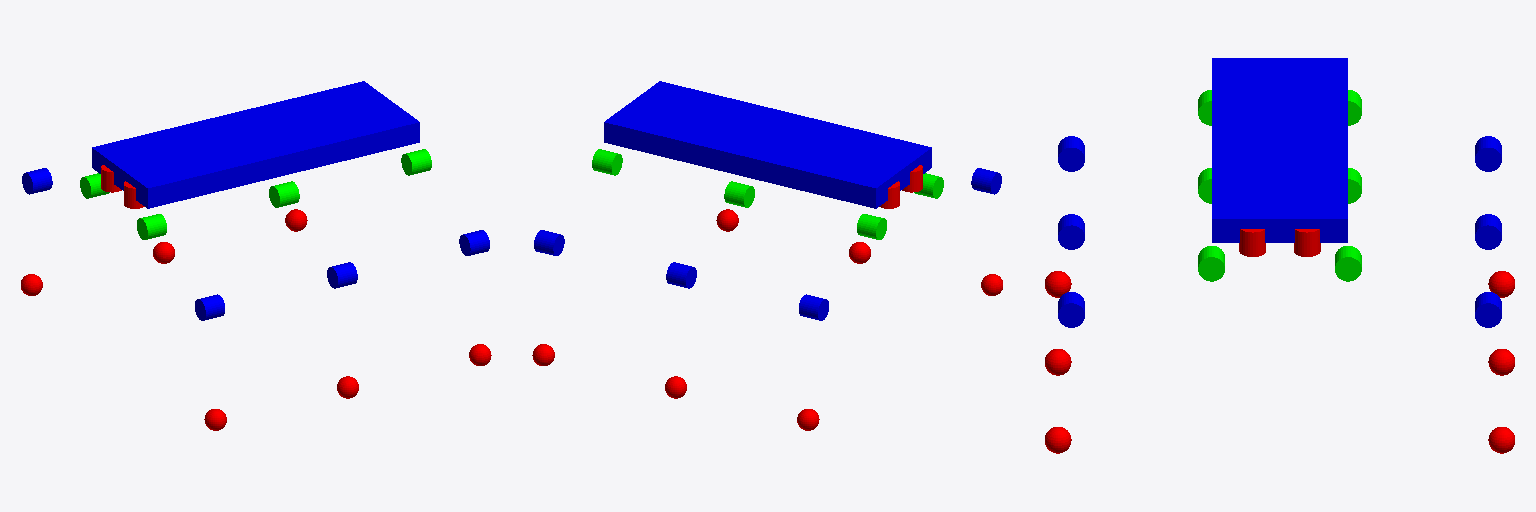
robot.urdf — robot_liuzu:
<?xml version="1.0" encoding="utf-8"?>
<!-- This URDF was automatically created by SolidWorks to URDF Exporter! Originally created by [author] ([email redacted]) 
     Commit Version: 1.6.0-4-g7f85cfe  Build Version: 1.6.7995.38578
     For more information, please see http://wiki.ros.org/sw_urdf_exporter -->
<robot name="robot_liuzu">
  <link name="base_link">
    <inertial>
      <origin xyz="0 0 0" rpy="0 0 0" />
      <mass value="17.206" />
      <inertia ixx="1.1941" ixy="0.003952" ixz="9.5899E-05" iyy="1.1576" iyz="0.078153" izz="0.21746" />
    </inertial>
    <visual>
      <origin xyz="0 0 0" rpy="0 0 0" />
      <geometry>
        <box size="0.7 0.25 0.05"/>
      </geometry>
      <material name="blue">
        <color rgba="0 0 1 1" />
      </material>
    </visual>
    <collision>
      <origin xyz="0 0 0" rpy="0 0 0" />
      <geometry>
        <box size="0.7 0.25 0.05"/>
      </geometry>
    </collision>
  </link>

  <joint name="body_lb" type="revolute">
    <origin xyz="-0.34 0.05 -0.021" rpy="0 0 0" />
    <parent link="base_link" />
    <child link="lb_link1" />
    <axis xyz="0 0 -1" />
    <limit lower="-0.471" upper="0.471"/>
  </joint>

  <link name="lb_link1">
    <inertial>
      <origin xyz="-0.038541 0.022331 -0.054879" rpy="0 0 0" />
      <mass value="2.478" />
      <inertia ixx="0.017127" ixy="-0.004201" ixz="0.009585" iyy="0.021963" iyz="-0.0056509" izz="0.011444" />
    </inertial>
    <visual>
      <origin xyz="0 0 0" rpy="0 0 0" />
      <geometry>
        <cylinder radius="0.025" length="0.05"/>
      </geometry>
      <material name="red">
        <color rgba="1 0 0 1" />
      </material>
    </visual>
    <collision>
      <origin xyz="0 0 0" rpy="0 0 0" />
      <geometry>
        <cylinder radius="0.025" length="0.05"/>
      </geometry>
    </collision>
  </link>

  <joint name="thigh_lb" type="revolute">
    <origin xyz="0 0.076 -0.05" rpy="0 0 0" />
    <parent link="lb_link1" />
    <child link="lb_link2" />
    <axis xyz="1 0 0" />
    <limit lower="-0.471" upper="0.471"/>
  </joint>

  <link name="lb_link2">
    <inertial>
      <origin xyz="0.033669 -0.033086 -0.002815" rpy="0 0 0" />
      <mass value="1.658" />
      <inertia ixx="0.0034925" ixy="-1.7485E-05" ixz="-0.000732" iyy="0.013323" iyz="2.067E-06" izz="0.015288" />
    </inertial>
    <visual>
      <origin xyz="0 0 0" rpy="0 1.570796 0" />
      <geometry>
        <cylinder radius="0.025" length="0.05"/>
      </geometry>
      <material name="green">
        <color rgba="0 1 0 1" />
      </material>
    </visual>
    <collision>
      <origin xyz="0 0 0" rpy="0 1.570796 0" />
      <geometry>
        <cylinder radius="0.025" length="0.05"/>
      </geometry>
    </collision>
  </link>

  <joint name="shank_lb" type="revolute">
    <origin xyz="0 0.25842 -0.094056" rpy="0 0 0" />
    <parent link="lb_link2" />
    <child link="lb_link3" />
    <axis xyz="1 0 0" />
    <limit lower="-0.471" upper="0.471" />
  </joint>

  <link name="lb_link3">
    <inertial>
      <origin xyz="0.033669 -0.033086 -0.002815" rpy="0 0 0" />
      <mass value="0.331" />
      <inertia ixx="0.00011902" ixy="5E-09" ixz="0.00064146" iyy="0.011147" iyz="1E-09" izz="0.011069" />
    </inertial>
    <visual>
      <origin xyz="0 0 0" rpy="0 1.570796 0" />
      <geometry>
        <cylinder radius="0.025" length="0.05"/>
      </geometry>
      <material name="blue">
        <color rgba="0 0 1 1" />
      </material>
    </visual>
    <collision>
      <origin xyz="0 0 0" rpy="0 1.570796 0" />
      <geometry>
        <cylinder radius="0.025" length="0.05"/>
      </geometry>
    </collision>
  </link>

  <joint name="lb_tip_joint" type="fixed">
    <origin xyz="0 0.025 -0.265" rpy="0 0 0" />
    <parent link="lb_link3" />
    <child link="lb_foot_tip" />
    <axis xyz="1 0 0" />
    <limit lower="-0.471" upper="0.471" />
  </joint>

  <link name="lb_foot_tip">
    <inertial>
      <origin xyz="0 0 0" rpy="0 0 0" />
      <mass value="1E-09" />
      <inertia ixx="1E-09" ixy="1E-09" ixz="1E-09" iyy="1E-09" iyz="1E-09" izz="1E-09" />
    </inertial>
    <visual>
      <origin xyz="0 0 0" rpy="0 0 0" />
      <geometry>
        <sphere radius="0.025"/>
      </geometry>
      <material name="red">
        <color rgba="1 0 0 1" />
      </material>
    </visual>
    <collision>
      <origin xyz="0 0 0" rpy="0 0 0" />
      <geometry>
        <sphere radius="0.025"/>
      </geometry>
    </collision>
  </link>


  <joint name="body_lm" type="revolute">
    <origin xyz="0 0.05 -0.021" rpy="0 0 0" />
    <parent link="base_link" />
    <child link="lm_link1" />
    <axis xyz="0 0 -1" />
    <limit lower="-0.471" upper="0.471" />
  </joint>

  <link name="lm_link1">
    <inertial>
      <origin xyz="-0.038541 0.022331 -0.054879" rpy="0 0 0" />
      <mass value="2.478" />
      <inertia ixx="0.017127" ixy="-0.004201" ixz="0.009585" iyy="0.021963" iyz="-0.0056509" izz="0.011444" />
    </inertial>
    <visual>
      <origin xyz="0 0 0" rpy="0 0 0" />
      <geometry>
        <cylinder radius="0.025" length="0.05"/>
      </geometry>
      <material name="red">
        <color rgba="1 0 0 1" />
      </material>
    </visual>
    <collision>
      <origin xyz="0 0 0" rpy="0 0 0" />
      <geometry>
        <cylinder radius="0.025" length="0.05"/>
      </geometry>
    </collision>
  </link>

  <joint name="thigh_lm" type="revolute">
    <origin xyz="0 0.076 -0.05" rpy="0 0 0" />
    <parent link="lm_link1" />
    <child link="lm_link2" />
    <axis xyz="1 0 0" />
    <limit lower="-0.471" upper="0.471" />
  </joint>

  <link name="lm_link2">
    <inertial>
      <origin xyz="0.033669 -0.033086 -0.002815" rpy="0 0 0" />
      <mass value="1.658" />
      <inertia ixx="0.0034925" ixy="-1.7485E-05" ixz="-0.000732" iyy="0.013323" iyz="2.067E-06" izz="0.015288" />
    </inertial>
    <visual>
      <origin xyz="0 0 0" rpy="0 1.570796 0" />
      <geometry>
        <cylinder radius="0.025" length="0.05"/>
      </geometry>
      <material name="green">
        <color rgba="0 1 0 1" />
      </material>
    </visual>
    <collision>
      <origin xyz="0 0 0" rpy="0 1.570796 0" />
      <geometry>
        <cylinder radius="0.025" length="0.05"/>
      </geometry>
    </collision>
  </link>

  <joint name="shank_lm" type="revolute">
    <origin xyz="0 0.25842 -0.094056" rpy="0 0 0" />
    <parent link="lm_link2" />
    <child link="lm_link3" />
    <axis xyz="1 0 0" />
    <limit lower="-0.471" upper="0.471" />
  </joint>

  <link name="lm_link3">
    <inertial>
      <origin xyz="0.033669 -0.033086 -0.002815" rpy="0 0 0" />
      <mass value="0.331" />
      <inertia ixx="0.00011902" ixy="5E-09" ixz="0.00064146" iyy="0.011147" iyz="1E-09" izz="0.011069" />
    </inertial>
    <visual>
      <origin xyz="0 0 0" rpy="0 1.570796 0" />
      <geometry>
        <cylinder radius="0.025" length="0.05"/>
      </geometry>
      <material name="blue">
        <color rgba="0 0 1 1" />
      </material>
    </visual>
    <collision>
      <origin xyz="0 0 0" rpy="0 1.570796 0" />
      <geometry>
        <cylinder radius="0.025" length="0.05"/>
      </geometry>
    </collision>
  </link>

  <joint name="lm_tip_joint" type="fixed">
    <origin xyz="0 0.025 -0.265" rpy="0 0 0" />
    <parent link="lm_link3" />
    <child link="lm_foot_tip" />
    <axis xyz="1 0 0" />
    <limit lower="-0.471" upper="0.471" />
  </joint>

  <link name="lm_foot_tip">
    <inertial>
      <origin xyz="0 0 0" rpy="0 0 0" />
      <mass value="1E-09" />
      <inertia ixx="1E-09" ixy="1E-09" ixz="1E-09" iyy="1E-09" iyz="1E-09" izz="1E-09" />
    </inertial>
    <visual>
      <origin xyz="0 0 0" rpy="0 0 0" />
      <geometry>
        <sphere radius="0.025"/>
      </geometry>
      <material name="red">
        <color rgba="1 0 0 1" />
      </material>
    </visual>
    <collision>
      <origin xyz="0 0 0" rpy="0 0 0" />
      <geometry>
        <sphere radius="0.025"/>
      </geometry>
    </collision>
  </link>

  <joint name="body_lf" type="revolute">
    <origin xyz="0.34 0.05 -0.021" rpy="0 0 0" />
    <parent link="base_link" />
    <child link="lf_link1" />
    <axis xyz="0 0 -1" />
    <limit lower="-0.471" upper="0.471" />
  </joint>

  <link name="lf_link1">
    <inertial>
      <origin xyz="-0.038541 0.022331 -0.054879" rpy="0 0 0" />
      <mass value="2.478" />
      <inertia ixx="0.017127" ixy="-0.004201" ixz="0.009585" iyy="0.021963" iyz="-0.0056509" izz="0.011444" />
    </inertial>
    <visual>
      <origin xyz="0 0 0" rpy="0 0 0" />
      <geometry>
        <cylinder radius="0.025" length="0.05"/>
      </geometry>
      <material name="red">
        <color rgba="1 0 0 1" />
      </material>
    </visual>
    <collision>
      <origin xyz="0 0 0" rpy="0 0 0" />
      <geometry>
        <cylinder radius="0.025" length="0.05"/>
      </geometry>
    </collision>
  </link>

  <joint name="thigh_lf" type="revolute">
    <origin xyz="0 0.076 -0.05" rpy="0 0 0" />
    <parent link="lf_link1" />
    <child link="lf_link2" />
    <axis xyz="1 0 0" />
    <limit lower="-0.471" upper="0.471" />
  </joint>

  <link name="lf_link2">
    <inertial>
      <origin xyz="0.033669 -0.033086 -0.002815" rpy="0 0 0" />
      <mass value="1.658" />
      <inertia ixx="0.0034925" ixy="-1.7485E-05" ixz="-0.000732" iyy="0.013323" iyz="2.067E-06" izz="0.015288" />
    </inertial>
    <visual>
      <origin xyz="0 0 0" rpy="0 1.570796 0" />
      <geometry>
        <cylinder radius="0.025" length="0.05"/>
      </geometry>
      <material name="green">
        <color rgba="0 1 0 1" />
      </material>
    </visual>
    <collision>
      <origin xyz="0 0 0" rpy="0 1.570796 0" />
      <geometry>
        <cylinder radius="0.025" length="0.05"/>
      </geometry>
    </collision>
  </link>

  <joint name="shank_lf" type="revolute">
    <origin xyz="0 0.25842 -0.094056" rpy="0 0 0" />
    <parent link="lf_link2" />
    <child link="lf_link3" />
    <axis xyz="1 0 0" />
    <limit lower="-0.471" upper="0.471" />
  </joint>

  <link name="lf_link3">
    <inertial>
      <origin xyz="0.033669 -0.033086 -0.002815" rpy="0 0 0" />
      <mass value="0.331" />
      <inertia ixx="0.00011902" ixy="5E-09" ixz="0.00064146" iyy="0.011147" iyz="1E-09" izz="0.011069" />
    </inertial>
    <visual>
      <origin xyz="0 0 0" rpy="0 1.570796 0" />
      <geometry>
        <cylinder radius="0.025" length="0.05"/>
      </geometry>
      <material name="blue">
        <color rgba="0 0 1 1" />
      </material>
    </visual>
    <collision>
      <origin xyz="0 0 0" rpy="0 1.570796 0" />
      <geometry>
        <cylinder radius="0.025" length="0.05"/>
      </geometry>
    </collision>
  </link>

  <joint name="lf_tip_joint" type="fixed">
    <origin xyz="0 0.025 -0.265" rpy="0 0 0" />
    <parent link="lf_link3" />
    <child link="lf_foot_tip" />
    <axis xyz="1 0 0" />
    <limit lower="-0.471" upper="0.471" />
  </joint>

  <link name="lf_foot_tip">
    <inertial>
      <origin xyz="0 0 0" rpy="0 0 0" />
      <mass value="1E-09" />
      <inertia ixx="1E-09" ixy="1E-09" ixz="1E-09" iyy="1E-09" iyz="1E-09" izz="1E-09" />
    </inertial>
    <visual>
      <origin xyz="0 0 0" rpy="0 0 0" />
      <geometry>
        <sphere radius="0.025"/>
      </geometry>
      <material name="red">
        <color rgba="1 0 0 1" />
      </material>
    </visual>
    <collision>
      <origin xyz="0 0 0" rpy="0 0 0" />
      <geometry>
        <sphere radius="0.025"/>
      </geometry>
    </collision>
  </link>

  <joint name="body_rf" type="revolute">
    <origin xyz="0.34 -0.05 -0.021" rpy="0 0 0" />
    <parent link="base_link" />
    <child link="rf_link1" />
    <axis xyz="0 0 1" />
    <limit lower="-0.471" upper="0.471" />
  </joint>

  <link name="rf_link1">
    <inertial>
      <origin xyz="-0.038541 0.022331 -0.054879" rpy="0 0 0" />
      <mass value="2.478" />
      <inertia ixx="0.017127" ixy="-0.004201" ixz="0.009585" iyy="0.021963" iyz="-0.0056509" izz="0.011444" />
    </inertial>
    <visual>
      <origin xyz="0 0 0" rpy="0 0 0" />
      <geometry>
        <cylinder radius="0.025" length="0.05"/>
      </geometry>
      <material name="red">
        <color rgba="1 0 0 1" />
      </material>
    </visual>
    <collision>
      <origin xyz="0 0 0" rpy="0 0 0" />
      <geometry>
        <cylinder radius="0.025" length="0.05"/>
      </geometry>
    </collision>
  </link>

  <joint name="thigh_rf" type="revolute">
    <origin xyz="0 -0.076 -0.05" rpy="0 0 0" />
    <parent link="rf_link1" />
    <child link="rf_link2" />
    <axis xyz="-1 0 0" />
    <limit lower="-0.471" upper="0.471" />
  </joint>

  <link name="rf_link2">
    <inertial>
      <origin xyz="0.033669 -0.033086 -0.002815" rpy="0 0 0" />
      <mass value="1.658" />
      <inertia ixx="0.0034925" ixy="-1.7485E-05" ixz="-0.000732" iyy="0.013323" iyz="2.067E-06" izz="0.015288" />
    </inertial>
    <visual>
      <origin xyz="0 0 0" rpy="0 1.570796 0" />
      <geometry>
        <cylinder radius="0.025" length="0.05"/>
      </geometry>
      <material name="green">
        <color rgba="0 1 0 1" />
      </material>
    </visual>
    <collision>
      <origin xyz="0 0 0" rpy="0 1.570796 0" />
      <geometry>
        <cylinder radius="0.025" length="0.05"/>
      </geometry>
    </collision>
  </link>

  <joint name="shank_rf" type="revolute">
    <origin xyz="0 -0.25842 -0.094056" rpy="0 0 0" />
    <parent link="rf_link2" />
    <child link="rf_link3" />
    <axis xyz="-1 0 0" />
    <limit lower="-0.471" upper="0.471" />
  </joint>

  <link name="rf_link3">
    <inertial>
      <origin xyz="0.033669 -0.033086 -0.002815" rpy="0 0 0" />
      <mass value="0.331" />
      <inertia ixx="0.00011902" ixy="5E-09" ixz="0.00064146" iyy="0.011147" iyz="1E-09" izz="0.011069" />
    </inertial>
    <visual>
      <origin xyz="0 0 0" rpy="0 1.570796 0" />
      <geometry>
        <cylinder radius="0.025" length="0.05"/>
      </geometry>
      <material name="blue">
        <color rgba="0 0 1 1" />
      </material>
    </visual>
    <collision>
      <origin xyz="0 0 0" rpy="0 1.570796 0" />
      <geometry>
        <cylinder radius="0.025" length="0.05"/>
      </geometry>
    </collision>
  </link>

  <joint name="rf_tip_joint" type="fixed">
    <origin xyz="0 -0.025 -0.265" rpy="0 0 0" />
    <parent link="rf_link3" />
    <child link="rf_foot_tip" />
    <axis xyz="1 0 0" />
    <limit lower="-0.471" upper="0.471" />
  </joint>

  <link name="rf_foot_tip">
    <inertial>
      <origin xyz="0 0 0" rpy="0 0 0" />
      <mass value="1E-09" />
      <inertia ixx="1E-09" ixy="1E-09" ixz="1E-09" iyy="1E-09" iyz="1E-09" izz="1E-09" />
    </inertial>
    <visual>
      <origin xyz="0 0 0" rpy="0 0 0" />
      <geometry>
        <sphere radius="0.025"/>
      </geometry>
      <material name="red">
        <color rgba="1 0 0 1" />
      </material>
    </visual>
    <collision>
      <origin xyz="0 0 0" rpy="0 0 0" />
      <geometry>
        <sphere radius="0.025"/>
      </geometry>
    </collision>
  </link>

  <joint name="body_rm" type="revolute">
    <origin xyz="0 -0.05 -0.021" rpy="0 0 0" />
    <parent link="base_link" />
    <child link="rm_link1" />
    <axis xyz="0 0 1" />
    <limit lower="-0.471" upper="0.471" />
  </joint>

  <link name="rm_link1">
    <inertial>
      <origin xyz="-0.038541 0.022331 -0.054879" rpy="0 0 0" />
      <mass value="2.478" />
      <inertia ixx="0.017127" ixy="-0.004201" ixz="0.009585" iyy="0.021963" iyz="-0.0056509" izz="0.011444" />
    </inertial>
    <visual>
      <origin xyz="0 0 0" rpy="0 0 0" />
      <geometry>
        <cylinder radius="0.025" length="0.05"/>
      </geometry>
      <material name="red">
        <color rgba="1 0 0 1" />
      </material>
    </visual>
    <collision>
      <origin xyz="0 0 0" rpy="0 0 0" />
      <geometry>
        <cylinder radius="0.025" length="0.05"/>
      </geometry>
    </collision>
  </link>

  <joint name="thigh_rm" type="revolute">
    <origin xyz="0 -0.076 -0.05" rpy="0 0 0" />
    <parent link="rm_link1" />
    <child link="rm_link2" />
    <axis xyz="-1 0 0" />
    <limit lower="-0.471" upper="0.471" />
  </joint>

  <link name="rm_link2">
    <inertial>
      <origin xyz="0.033669 -0.033086 -0.002815" rpy="0 0 0" />
      <mass value="1.658" />
      <inertia ixx="0.0034925" ixy="-1.7485E-05" ixz="-0.000732" iyy="0.013323" iyz="2.067E-06" izz="0.015288" />
    </inertial>
    <visual>
      <origin xyz="0 0 0" rpy="0 1.570796 0" />
      <geometry>
        <cylinder radius="0.025" length="0.05"/>
      </geometry>
      <material name="green">
        <color rgba="0 1 0 1" />
      </material>
    </visual>
    <collision>
      <origin xyz="0 0 0" rpy="0 1.570796 0" />
      <geometry>
        <cylinder radius="0.025" length="0.05"/>
      </geometry>
    </collision>
  </link>

  <joint name="shank_rm" type="revolute">
    <origin xyz="0 -0.25842 -0.094056" rpy="0 0 0" />
    <parent link="rm_link2" />
    <child link="rm_link3" />
    <axis xyz="-1 0 0" />
    <limit lower="-0.471" upper="0.471" />
  </joint>

  <link name="rm_link3">
    <inertial>
      <origin xyz="0.033669 -0.033086 -0.002815" rpy="0 0 0" />
      <mass value="0.331" />
      <inertia ixx="0.00011902" ixy="5E-09" ixz="0.00064146" iyy="0.011147" iyz="1E-09" izz="0.011069" />
    </inertial>
    <visual>
      <origin xyz="0 0 0" rpy="0 1.570796 0" />
      <geometry>
        <cylinder radius="0.025" length="0.05"/>
      </geometry>
      <material name="blue">
        <color rgba="0 0 1 1" />
      </material>
    </visual>
    <collision>
      <origin xyz="0 0 0" rpy="0 1.570796 0" />
      <geometry>
        <cylinder radius="0.025" length="0.05"/>
      </geometry>
    </collision>
  </link>

  <joint name="rm_tip_joint" type="fixed">
    <origin xyz="0 -0.025 -0.265" rpy="0 0 0" />
    <parent link="rm_link3" />
    <child link="rm_foot_tip" />
    <axis xyz="1 0 0" />
    <limit lower="-0.471" upper="0.471" />
  </joint>

  <link name="rm_foot_tip">
    <inertial>
      <origin xyz="0 0 0" rpy="0 0 0" />
      <mass value="1E-09" />
      <inertia ixx="1E-09" ixy="1E-09" ixz="1E-09" iyy="1E-09" iyz="1E-09" izz="1E-09" />
    </inertial>
    <visual>
      <origin xyz="0 0 0" rpy="0 0 0" />
      <geometry>
        <sphere radius="0.025"/>
      </geometry>
      <material name="red">
        <color rgba="1 0 0 1" />
      </material>
    </visual>
    <collision>
      <origin xyz="0 0 0" rpy="0 0 0" />
      <geometry>
        <sphere radius="0.025"/>
      </geometry>
    </collision>
  </link>


  <joint name="body_rb" type="revolute">
    <origin xyz="-0.34 -0.05 -0.021" rpy="0 0 0" />
    <parent link="base_link" />
    <child link="rb_link1" />
    <axis xyz="0 0 1" />
    <limit lower="-0.471" upper="0.471" />
  </joint>

  <link name="rb_link1">
    <inertial>
      <origin xyz="-0.038541 0.022331 -0.054879" rpy="0 0 0" />
      <mass value="2.478" />
      <inertia ixx="0.017127" ixy="-0.004201" ixz="0.009585" iyy="0.021963" iyz="-0.0056509" izz="0.011444" />
    </inertial>
    <visual>
      <origin xyz="0 0 0" rpy="0 0 0" />
      <geometry>
        <cylinder radius="0.025" length="0.05"/>
      </geometry>
      <material name="red">
        <color rgba="1 0 0 1" />
      </material>
    </visual>
    <collision>
      <origin xyz="0 0 0" rpy="0 0 0" />
      <geometry>
        <cylinder radius="0.025" length="0.05"/>
      </geometry>
    </collision>
  </link>

  <joint name="thigh_rb" type="revolute">
    <origin xyz="0 -0.076 -0.05" rpy="0 0 0" />
    <parent link="rb_link1" />
    <child link="rb_link2" />
    <axis xyz="-1 0 0" />
    <limit lower="-0.471" upper="0.471" />
  </joint>

  <link name="rb_link2">
    <inertial>
      <origin xyz="0.033669 -0.033086 -0.002815" rpy="0 0 0" />
      <mass value="1.658" />
      <inertia ixx="0.0034925" ixy="-1.7485E-05" ixz="-0.000732" iyy="0.013323" iyz="2.067E-06" izz="0.015288" />
    </inertial>
    <visual>
      <origin xyz="0 0 0" rpy="0 1.570796 0" />
      <geometry>
        <cylinder radius="0.025" length="0.05"/>
      </geometry>
      <material name="green">
        <color rgba="0 1 0 1" />
      </material>
    </visual>
    <collision>
      <origin xyz="0 0 0" rpy="0 1.570796 0" />
      <geometry>
        <cylinder radius="0.025" length="0.05"/>
      </geometry>
    </collision>
  </link>

  <joint name="shank_rb" type="revolute">
    <origin xyz="0 -0.25842 -0.094056" rpy="0 0 0" />
    <parent link="rb_link2" />
    <child link="rb_link3" />
    <axis xyz="-1 0 0" />
    <limit lower="-0.471" upper="0.471" />
  </joint>

  <link name="rb_link3">
    <inertial>
      <origin xyz="0.033669 -0.033086 -0.002815" rpy="0 0 0" />
      <mass value="0.331" />
      <inertia ixx="0.00011902" ixy="5E-09" ixz="0.00064146" iyy="0.011147" iyz="1E-09" izz="0.011069" />
    </inertial>
    <visual>
      <origin xyz="0 0 0" rpy="0 1.570796 0" />
      <geometry>
        <cylinder radius="0.025" length="0.05"/>
      </geometry>
      <material name="blue">
        <color rgba="0 0 1 1" />
      </material>
    </visual>
    <collision>
      <origin xyz="0 0 0" rpy="0 1.570796 0" />
      <geometry>
        <cylinder radius="0.025" length="0.05"/>
      </geometry>
    </collision>
  </link>

  <joint name="rb_tip_joint" type="fixed">
    <origin xyz="0 -0.025 -0.265" rpy="0 0 0" />
    <parent link="rb_link3" />
    <child link="rb_foot_tip" />
    <axis xyz="1 0 0" />
    <limit lower="-0.471" upper="0.471" />
  </joint>

  <link name="rb_foot_tip">
    <inertial>
      <origin xyz="0 0 0" rpy="0 0 0" />
      <mass value="1E-09" />
      <inertia ixx="1E-09" ixy="1E-09" ixz="1E-09" iyy="1E-09" iyz="1E-09" izz="1E-09" />
    </inertial>
    <visual>
      <origin xyz="0 0 0" rpy="0 0 0" />
      <geometry>
        <sphere radius="0.025"/>
      </geometry>
      <material name="red">
        <color rgba="1 0 0 1" />
      </material>
    </visual>
    <collision>
      <origin xyz="0 0 0" rpy="0 0 0" />
      <geometry>
        <sphere radius="0.025"/>
      </geometry>
    </collision>
  </link>
</robot>

--- What the picture shows (computed from the rendered views, not written in the file) ---
Views: 3 orthographic renders of the robot side by side, from view 1: azimuth 30°, elevation 25°; view 2: azimuth 150°, elevation 25°; view 3: azimuth 270°, elevation 25°.
Robot: robot_liuzu — 25 links, 24 joints (18 revolute, 6 fixed); root link base_link; default pose: all joints at 0.
Links seen in each view (by area): view 1: base_link, rm_link3, lb_link3, rf_link2, rm_link2, rf_link3, rb_link2, rb_link3; view 2: base_link, lm_link3, lm_link2, lf_link2, rb_link3, lf_link3, lb_link2, lb_link3; view 3: base_link, lf_link3, rf_link3, lb_link3, rb_link3, lm_link3, rm_link3, lf_link2, rf_link2, lf_link1, rf_link1, lm_foot_tip (+5 smaller).
Boxes of the visible links, left/top/right/bottom form: base_link: left=92, top=81, right=419, bottom=208; rm_link3: left=327, top=262, right=357, bottom=288; lb_link3: left=22, top=168, right=52, bottom=194; rf_link2: left=401, top=149, right=431, bottom=175; rm_link2: left=269, top=181, right=299, bottom=207; rf_link3: left=459, top=230, right=489, bottom=255; rb_link2: left=137, top=214, right=166, bottom=239; rb_link3: left=195, top=294, right=224, bottom=320; base_link: left=604, top=81, right=931, bottom=208; lm_link3: left=666, top=262, right=696, bottom=288; lm_link2: left=724, top=181, right=754, bottom=207; lf_link2: left=592, top=149, right=622, bottom=175; rb_link3: left=971, top=168, right=1001, bottom=194; lf_link3: left=534, top=230, right=564, bottom=255; lb_link2: left=857, top=214, right=886, bottom=239; lb_link3: left=799, top=294, right=828, bottom=320; base_link: left=1212, top=58, right=1347, bottom=242; lf_link3: left=1475, top=292, right=1501, bottom=327; rf_link3: left=1058, top=292, right=1084, bottom=327; lb_link3: left=1475, top=136, right=1501, bottom=171; rb_link3: left=1058, top=136, right=1084, bottom=171; lm_link3: left=1475, top=214, right=1501, bottom=249; rm_link3: left=1058, top=214, right=1084, bottom=249; lf_link2: left=1335, top=246, right=1361, bottom=281; rf_link2: left=1198, top=246, right=1224, bottom=281; lf_link1: left=1294, top=229, right=1320, bottom=256; rf_link1: left=1239, top=229, right=1265, bottom=256; lm_foot_tip: left=1488, top=349, right=1514, bottom=375.
Bounding box of the posed robot: 0.73 × 0.8688 × 0.4801 m (x, y, z).
Geometry: primitives only (box / cylinder / sphere), no mesh files.
